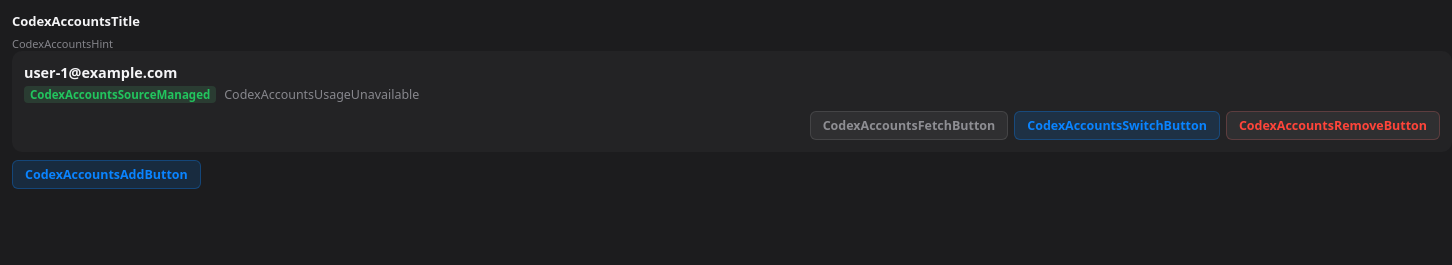
it: CodexAccountsSection › offers a desktop restart even for a first switch (saved session: true)
The image size is (1452, 265).
Click the button "CodexAccountsSwitchButton" at (1117, 126), box [1014, 111, 1220, 140]
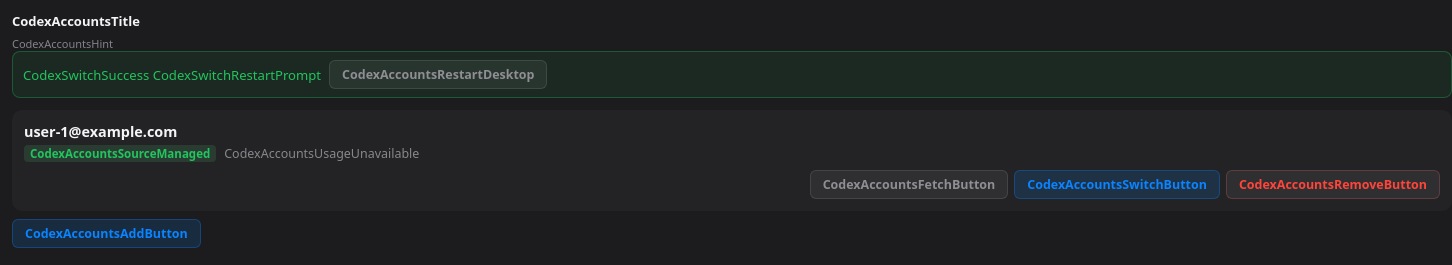
Expected: the text "CodexSwitchSuccess CodexSwitchRestartPrompt CodexAccountsRestartDesktop" is shown, [12, 51, 1451, 98]
Click the button "CodexAccountsRestartDesktop" at (438, 75), box [329, 60, 548, 89]
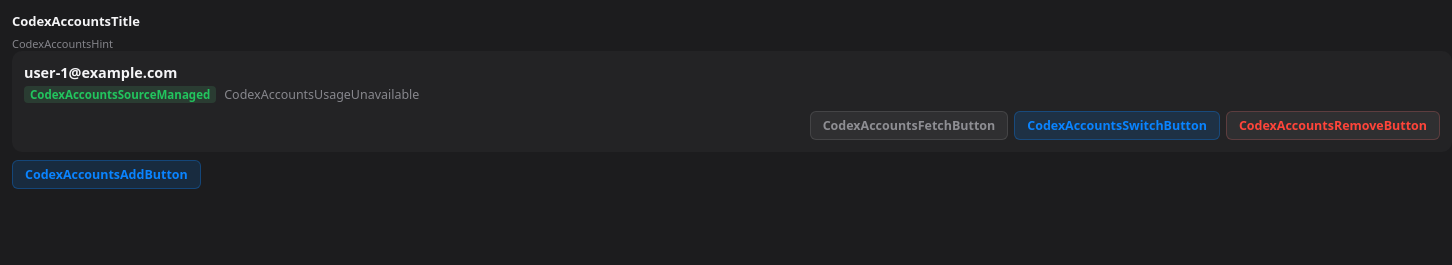
Expected: the button "CodexAccountsRestartDesktop" is gone
